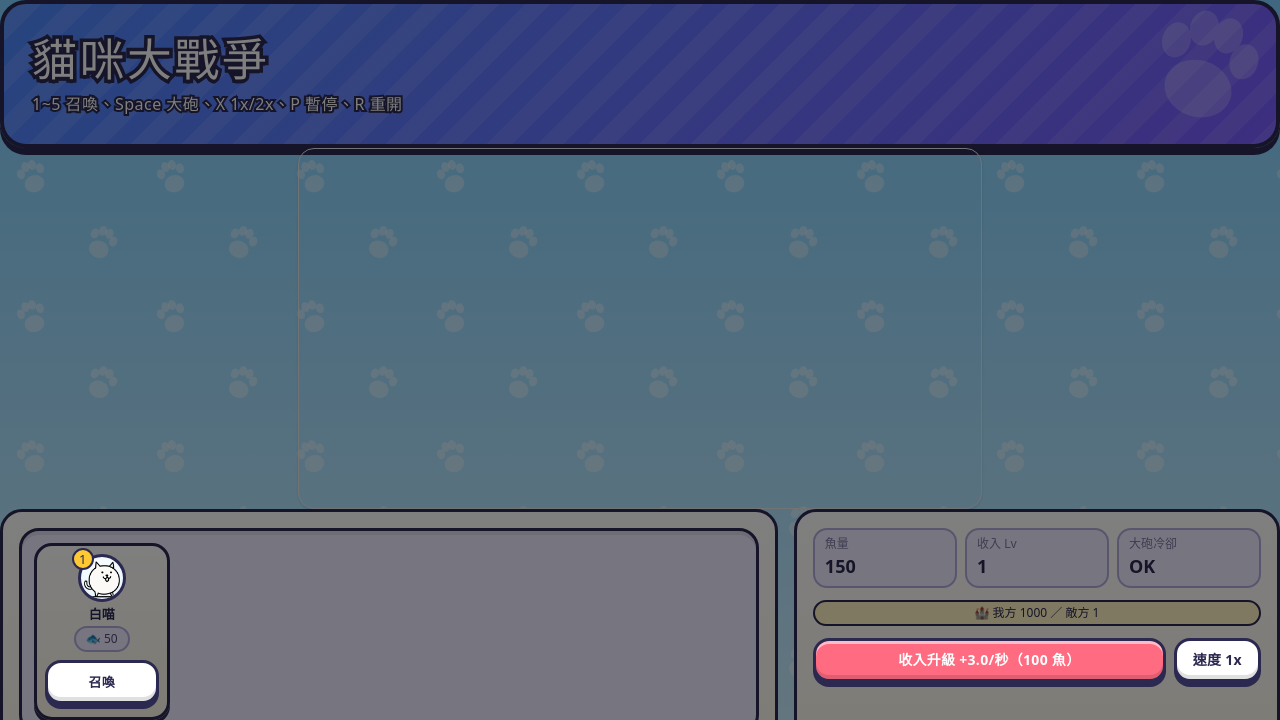
Scenario: Battle 戰鬥流程（EG-012） › 開始前按召喚會直接開打
The image size is (1280, 720).
What coordinates should you click on to do the following:
click the button with aria-label "召喚 白喵"
I would click on:
 (102, 682)
Its box is [45, 660, 159, 704].
Wait 150 ms
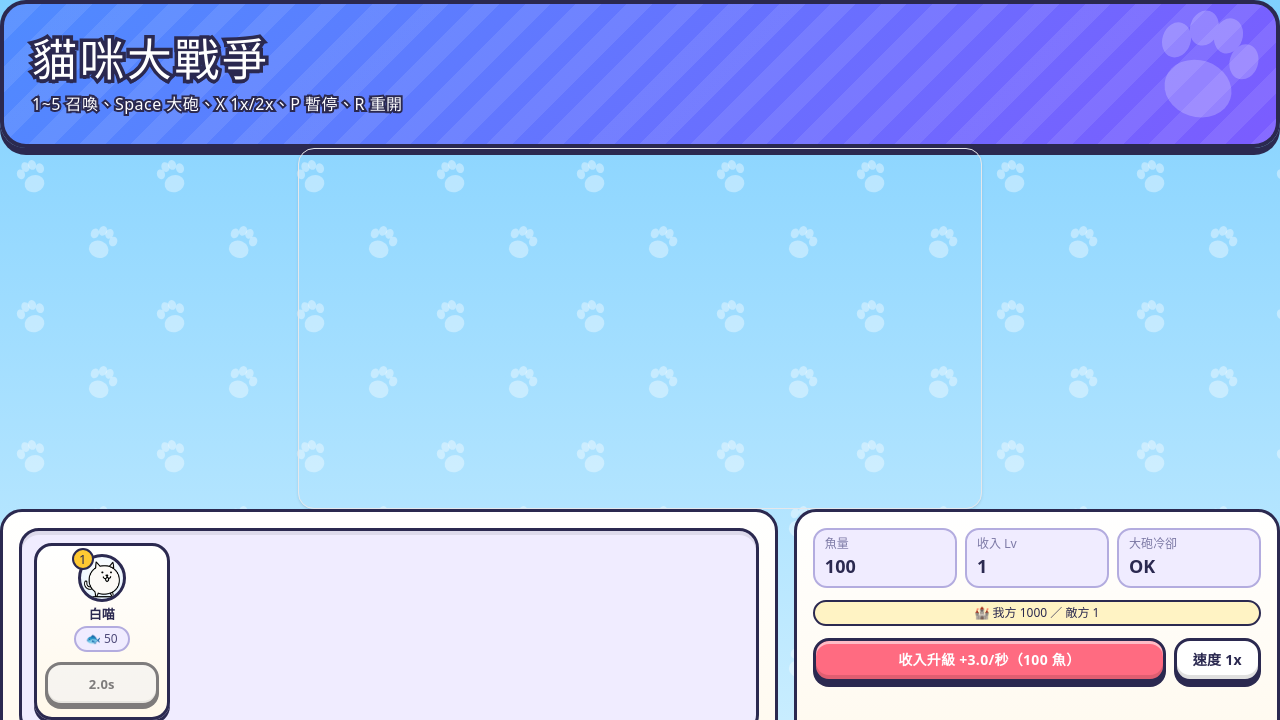
Now the button named "召喚 白喵" shows "s", box [45, 662, 159, 706]
